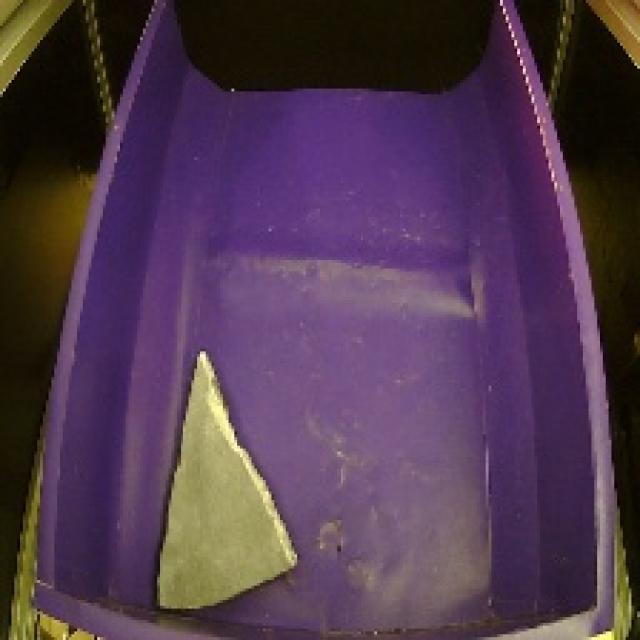china: (147, 343, 307, 621)
